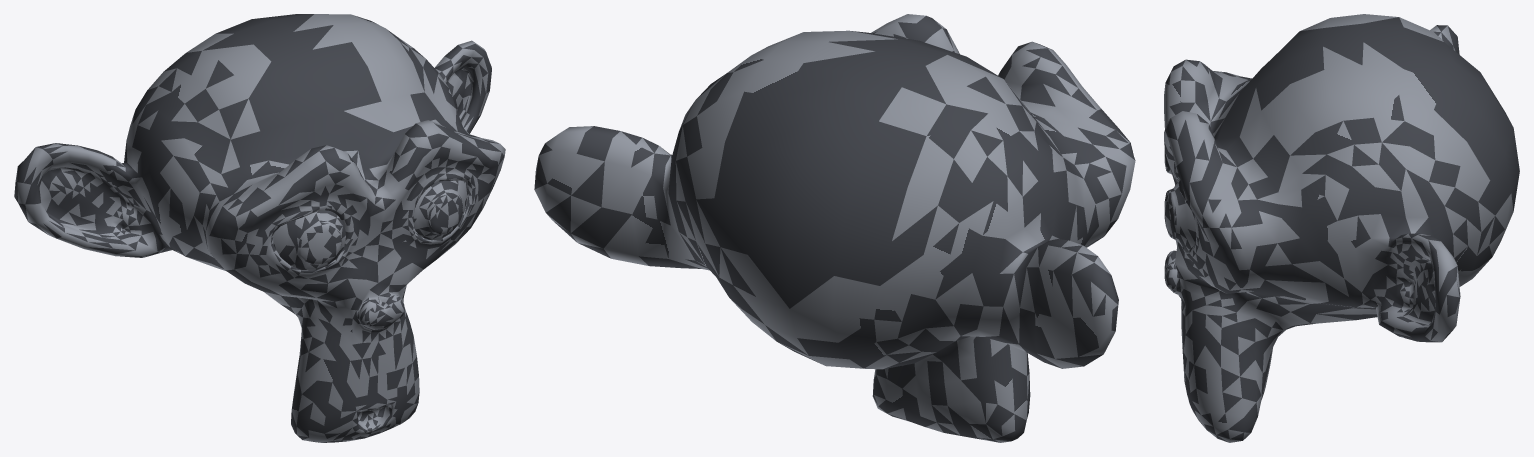
The model's file is suzanne.glb.
3 views of the same model, side by side, from view 1: azimuth 30°, elevation 25°; view 2: azimuth 150°, elevation 25°; view 3: azimuth 270°, elevation 25° (orthographic). The views are drawn at different scales.
Visible parts, largest first — view 1: Suzanne; view 2: Suzanne; view 3: Suzanne.
Boxes of the visible parts, x1,y1,x2,y2 form: Suzanne: [14, 14, 505, 442]; Suzanne: [534, 14, 1135, 442]; Suzanne: [1164, 14, 1519, 442].
Size of the model in its own units: 2.67 by 1.92 by 1.63.
1 material, 1 textured.
